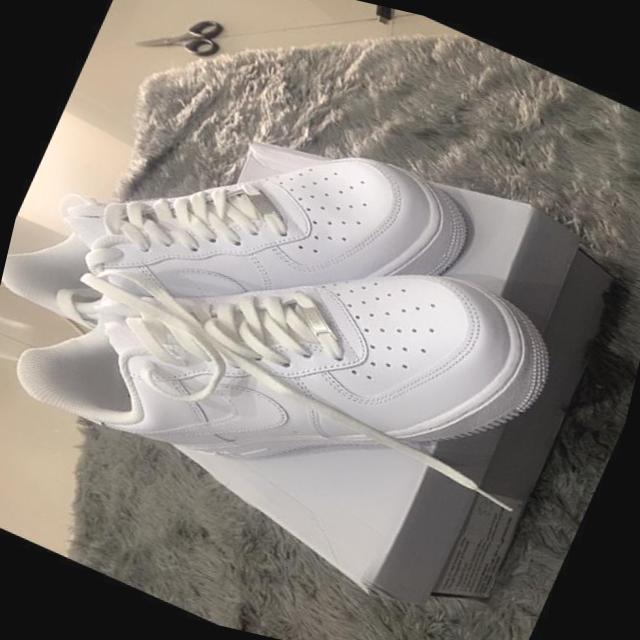nike_original_airforce: (0, 130, 590, 609), (0, 18, 508, 471)
